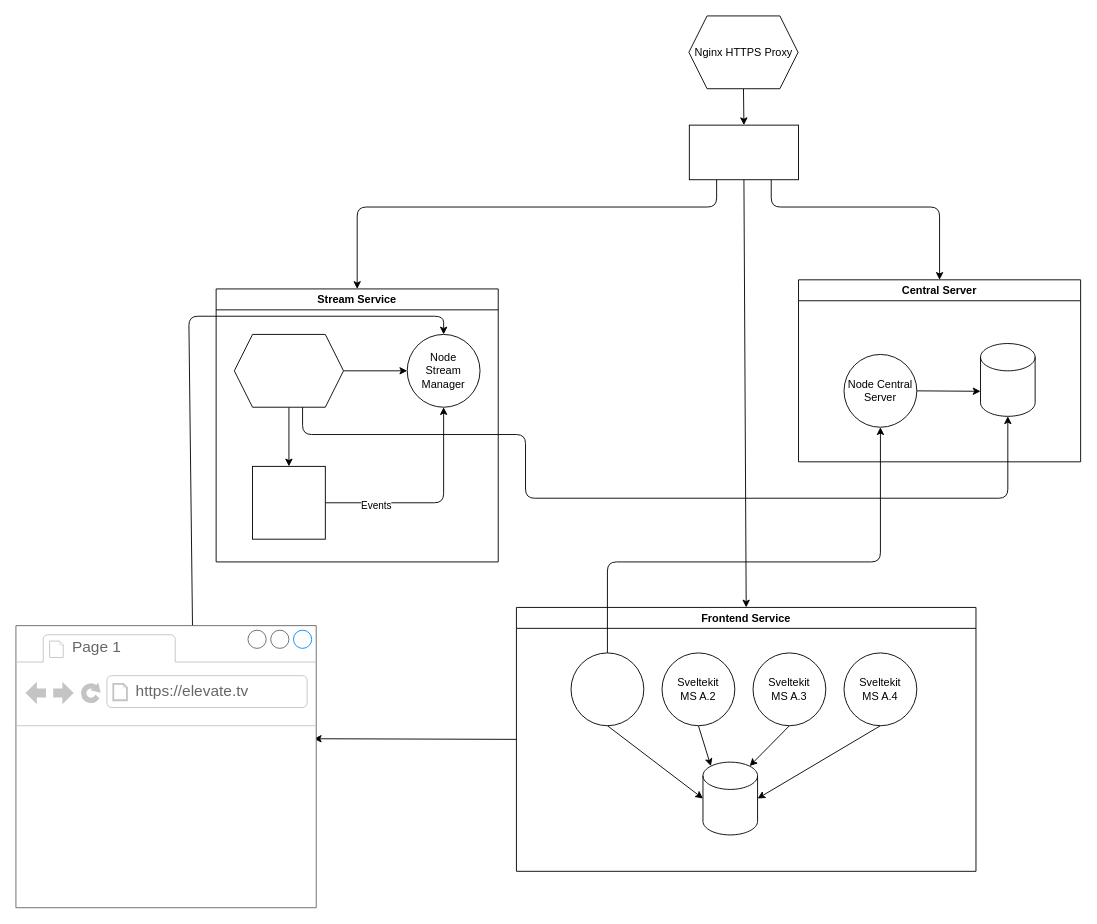
Some shapes in this 1097 by 924 pixel diagram are drawn without their labels. The shapes that lost their labels are listed below. From the top down, each one's centre as x and y in pixels, then its label:
point (743, 152): Kubernettes
point (288, 370): Nginx RTMP Server
point (1007, 379): Central PG Database
point (288, 502): Rust AI Server
point (607, 689): Sveltekit MS A.1
point (730, 798): PG Database A
